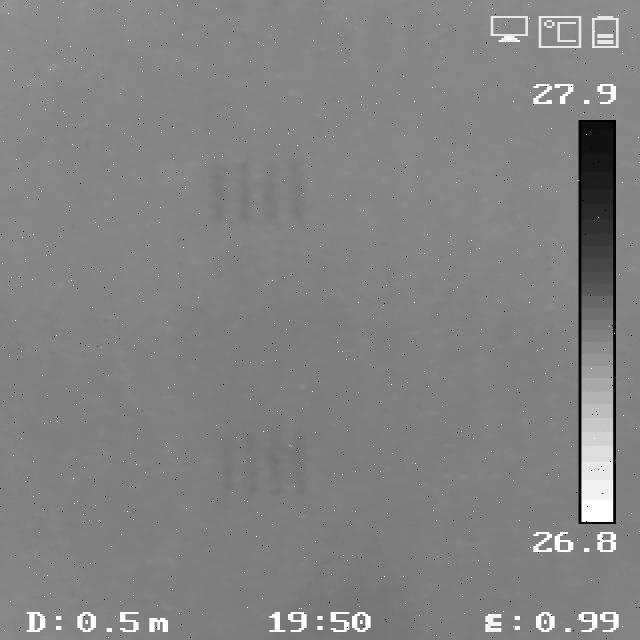threshold 4-bar target: (205, 155, 312, 226), (210, 428, 310, 500)
